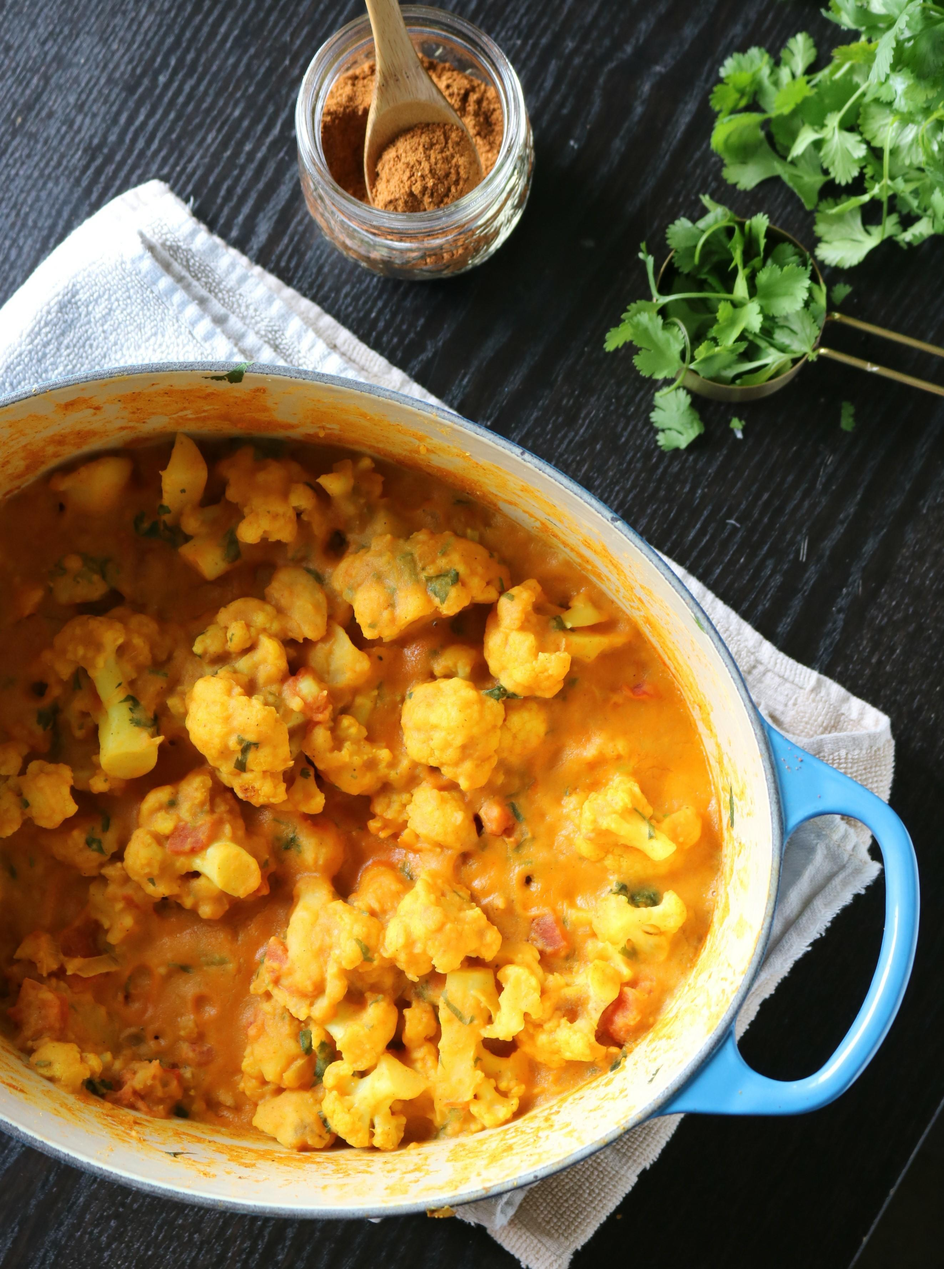AlooGobi: (1, 440, 722, 1156)
